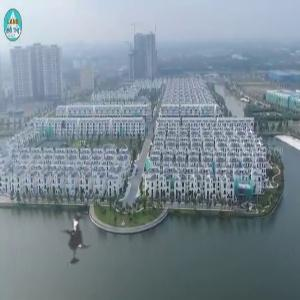drone: (31, 189, 131, 289)
